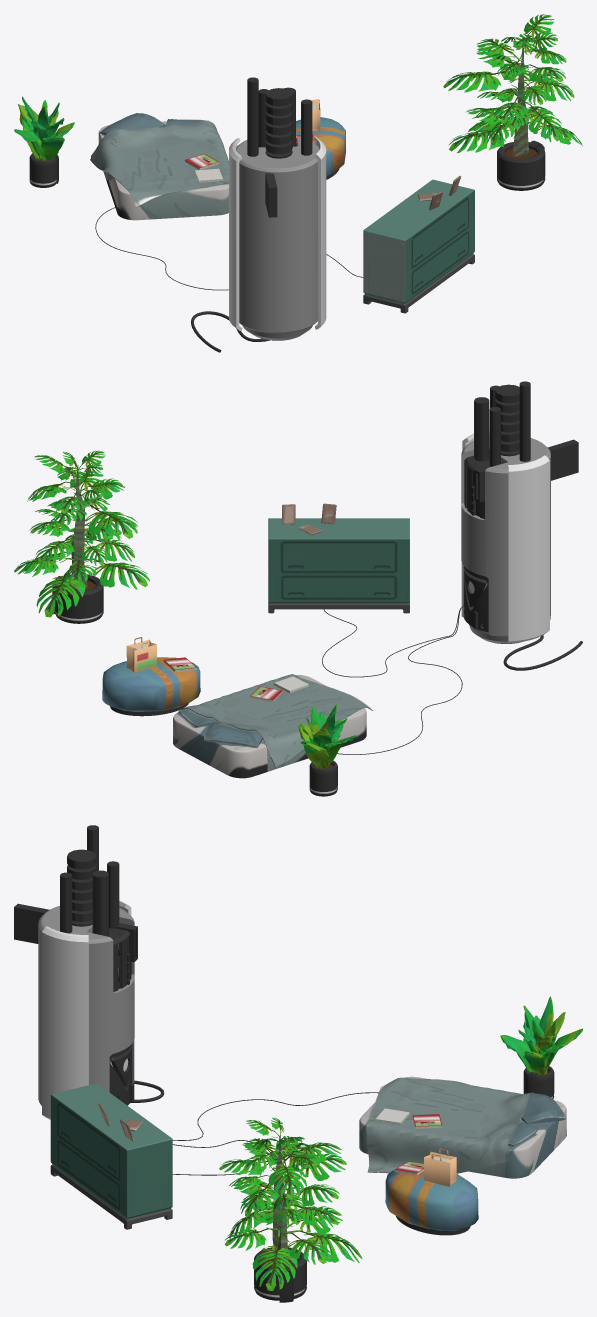
The model's file is SM_Bedroom.fbx.
3 renders of one model, top to bottom at view 1: azimuth 30°, elevation 25°; view 2: azimuth 150°, elevation 25°; view 3: azimuth 270°, elevation 25°, orthographic. The views are drawn at different scales.
Visible parts, largest first — view 1: SM_Mainframe, SM_Cabinet, SM_Blanket, SM_Bed, SM_Plant_Bedroom, SM_Tree_Livingroom.002, SM_Poof.001, T_Plants_D.026, T_Plants_D.018, T_Plants_D.020, T_Plants_D.021, T_Plants_D.029 (+5 smaller); view 2: SM_Mainframe, SM_Cabinet, SM_Blanket, SM_Poof.001, SM_Bed, SM_Plant_Bedroom, SM_Tree_Livingroom.002, T_Plants_D.017, T_Plants_D.018, T_Plants_D.026, SM_Pillow2, T_Plants_D.031 (+4 smaller); view 3: SM_Mainframe, SM_Cabinet, SM_Blanket, SM_Poof.001, SM_Plant_Bedroom, SM_Bed, SM_Tree_Livingroom.002, T_Plants_D.016, T_Plants_D.017, T_Plants_D.027, SM_Pillow2, SM_Bag (+6 smaller).
Part boxes in pixels (left/top/right/bottom): SM_Mainframe: left=229, top=77, right=326, bottom=340; SM_Cabinet: left=363, top=176, right=474, bottom=313; SM_Blanket: left=90, top=121, right=228, bottom=207; SM_Bed: left=98, top=119, right=228, bottom=220; SM_Plant_Bedroom: left=14, top=96, right=74, bottom=187; SM_Tree_Livingroom.002: left=497, top=42, right=545, bottom=190; SM_Poof.001: left=296, top=117, right=345, bottom=179; T_Plants_D.026: left=443, top=49, right=519, bottom=92; T_Plants_D.018: left=448, top=108, right=519, bottom=152; T_Plants_D.020: left=505, top=101, right=562, bottom=142; T_Plants_D.021: left=521, top=79, right=574, bottom=105; T_Plants_D.029: left=522, top=14, right=557, bottom=51; SM_Mainframe: left=461, top=381, right=578, bottom=643; SM_Cabinet: left=268, top=503, right=409, bottom=613; SM_Blanket: left=178, top=674, right=372, bottom=767; SM_Poof.001: left=102, top=657, right=200, bottom=716; SM_Bed: left=173, top=675, right=366, bottom=778; SM_Plant_Bedroom: left=298, top=704, right=356, bottom=796; SM_Tree_Livingroom.002: left=52, top=469, right=103, bottom=623; T_Plants_D.017: left=14, top=557, right=86, bottom=617; T_Plants_D.018: left=62, top=558, right=149, bottom=589; T_Plants_D.026: left=50, top=503, right=137, bottom=539; SM_Pillow2: left=204, top=724, right=262, bottom=747; T_Plants_D.031: left=81, top=538, right=134, bottom=565; SM_Mainframe: left=14, top=825, right=137, bottom=1119; SM_Cabinet: left=50, top=1083, right=172, bottom=1229; SM_Blanket: left=366, top=1077, right=534, bottom=1173; SM_Poof.001: left=385, top=1170, right=478, bottom=1235; SM_Plant_Bedroom: left=500, top=996, right=582, bottom=1098; SM_Bed: left=359, top=1076, right=566, bottom=1178; SM_Tree_Livingroom.002: left=254, top=1136, right=306, bottom=1302; T_Plants_D.016: left=224, top=1228, right=297, bottom=1290; T_Plants_D.017: left=284, top=1230, right=362, bottom=1264; T_Plants_D.027: left=241, top=1150, right=306, bottom=1199; SM_Pillow2: left=521, top=1093, right=565, bottom=1124; SM_Bag: left=424, top=1148, right=456, bottom=1186.
Size of the model in its own units: 7.45 by 4.02 by 7.55.
